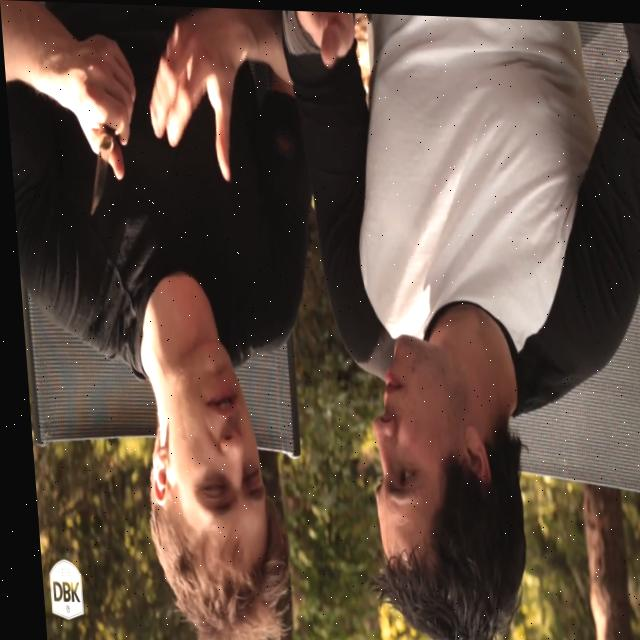knife: (77, 129, 126, 226)
